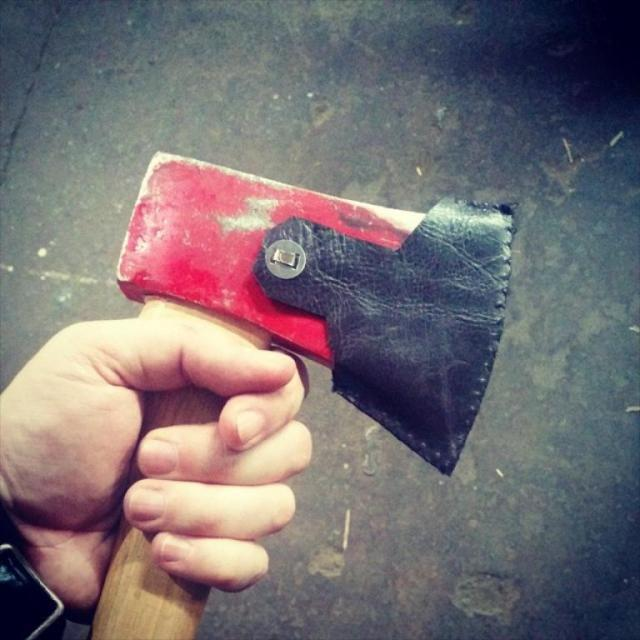Axe: (118, 152, 512, 473), (92, 531, 208, 639)
